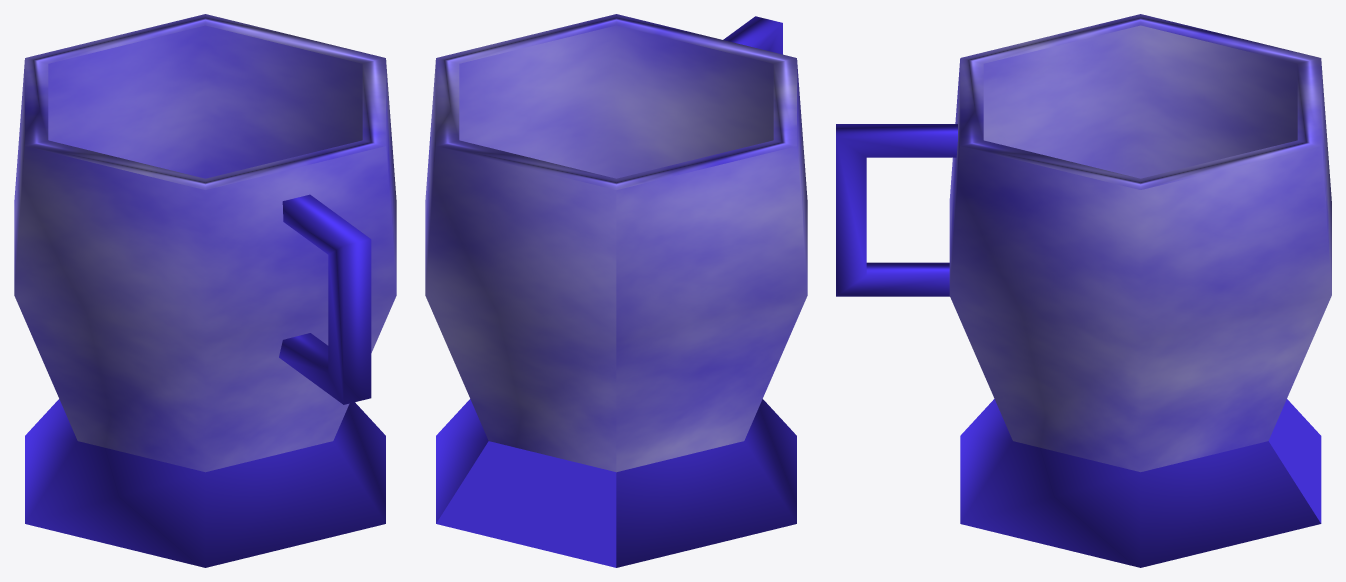
The model's file is Cup.fbx.
3 renders of one model, left to right at view 1: azimuth 30°, elevation 25°; view 2: azimuth 150°, elevation 25°; view 3: azimuth 270°, elevation 25°, orthographic.
Visible parts, largest first — view 1: cup:pCylinder5; view 2: cup:pCylinder5; view 3: cup:pCylinder5.
Part boxes in pixels (x1,y1,x2,y2): cup:pCylinder5: (14,14,396,567); cup:pCylinder5: (425,14,807,567); cup:pCylinder5: (836,14,1331,567).
Bounding box in the file's own units: 2.12 × 2 × 2.38.
